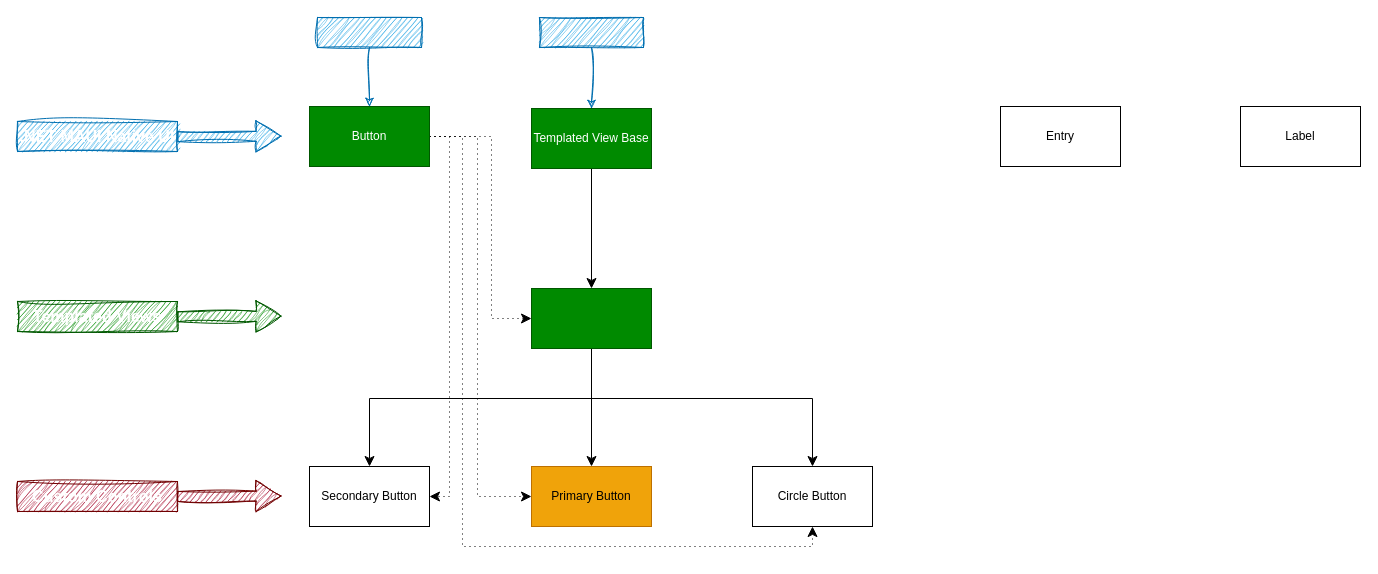
This 1378x574 diagram has some shape labels left out. Here are the shapes that lost their labels. From the top down, the centre of each, then its label:
At pixel 369 32: "UI".
At pixel 591 32: "Properties".
At pixel 591 318: "Templated Button View".
